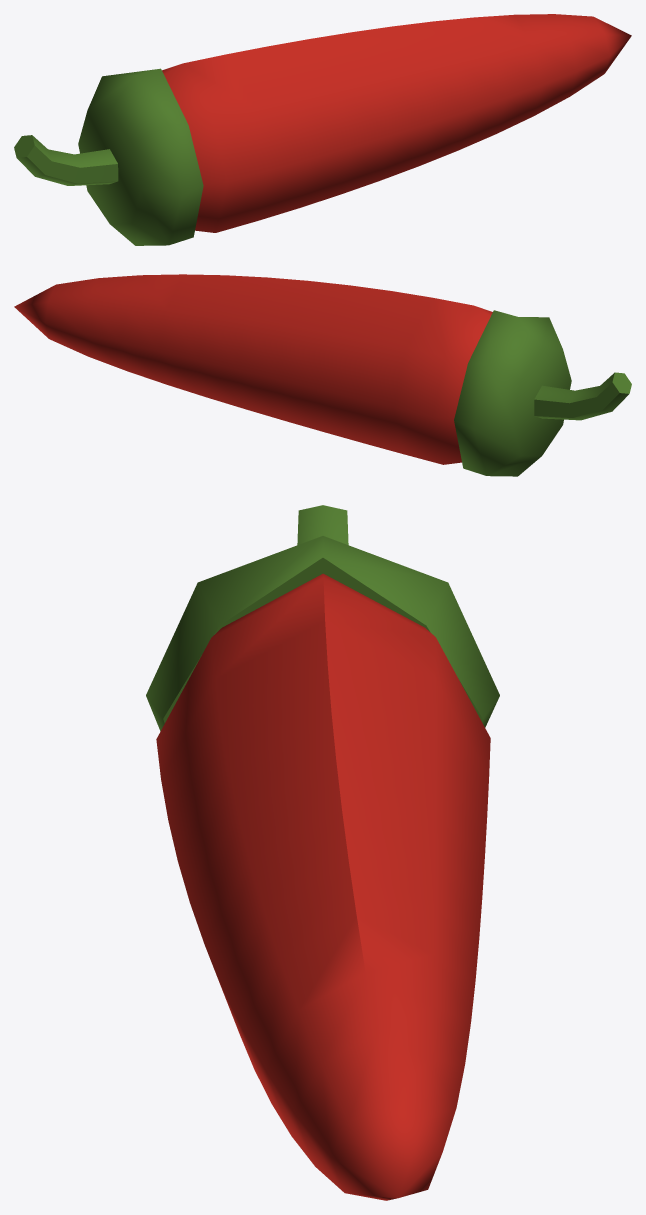
File: chilli.glb
The picture shows the model from 3 angles, top to bottom: view 1: azimuth 30°, elevation 25°; view 2: azimuth 150°, elevation 25°; view 3: azimuth 270°, elevation 25°; orthographic projection. The views are drawn at different scales.
Visible parts, largest first — view 1: chilli; view 2: chilli; view 3: chilli.
Part boxes in pixels (<box>): chilli: <box>14,14,631,245</box>; chilli: <box>14,274,631,476</box>; chilli: <box>146,505,499,1200</box>.
Bounding box in the file's own units: 0.07 × 0.018 × 0.018.
